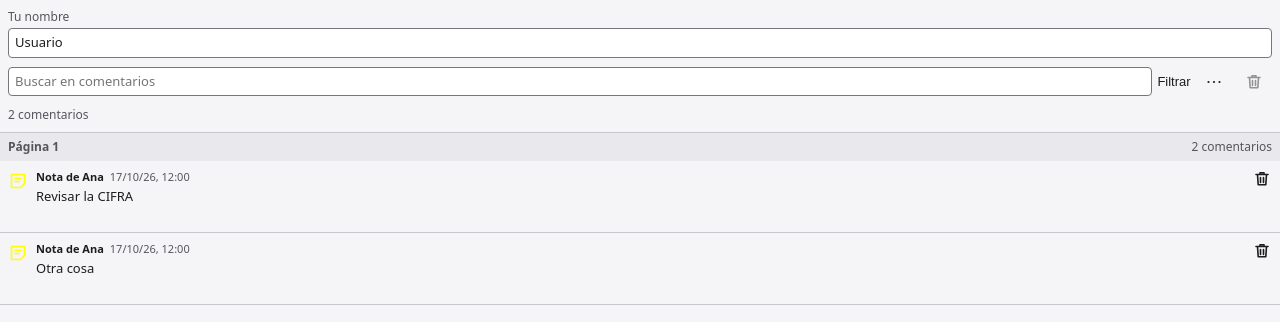
Test: Panel de comentarios (PDF-036) › el buscador filtra por texto sin distinguir mayúsculas ni acentos y el recuento sigue al filtro
The image size is (1280, 322).
Expected: the text "2 comentarios" below "Tu nombre" is shown, 8,106 -> 88,122
Type "cifra" into the search field labelled "Buscar en comentarios" at (580, 82), box 8,67 -> 1152,96
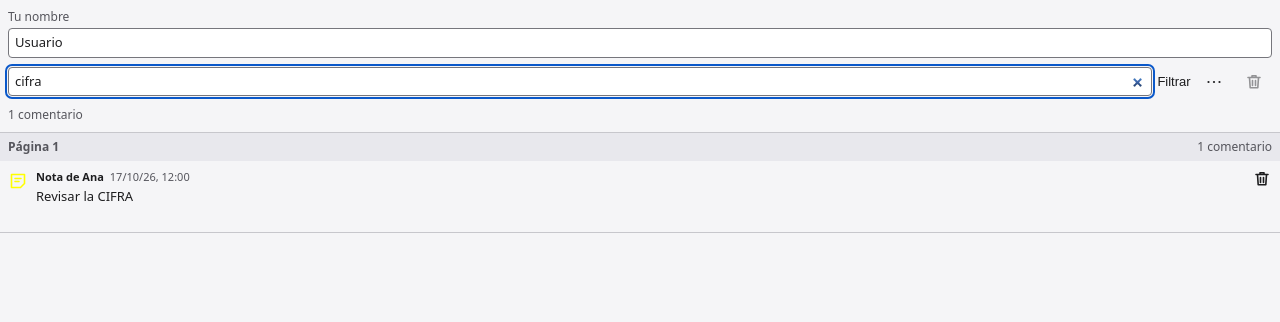
Expected: the text "1 comentario" below "Tu nombre" is shown, 8,106 -> 83,122
